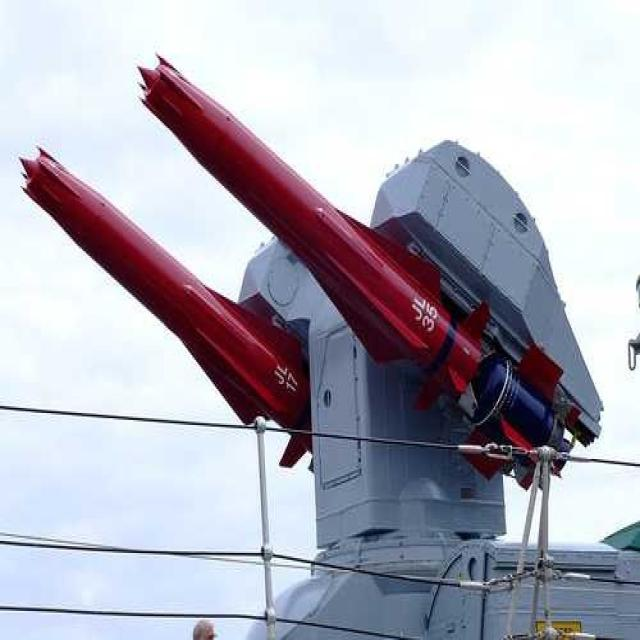missile: (133, 45, 576, 475), (15, 144, 314, 467)
